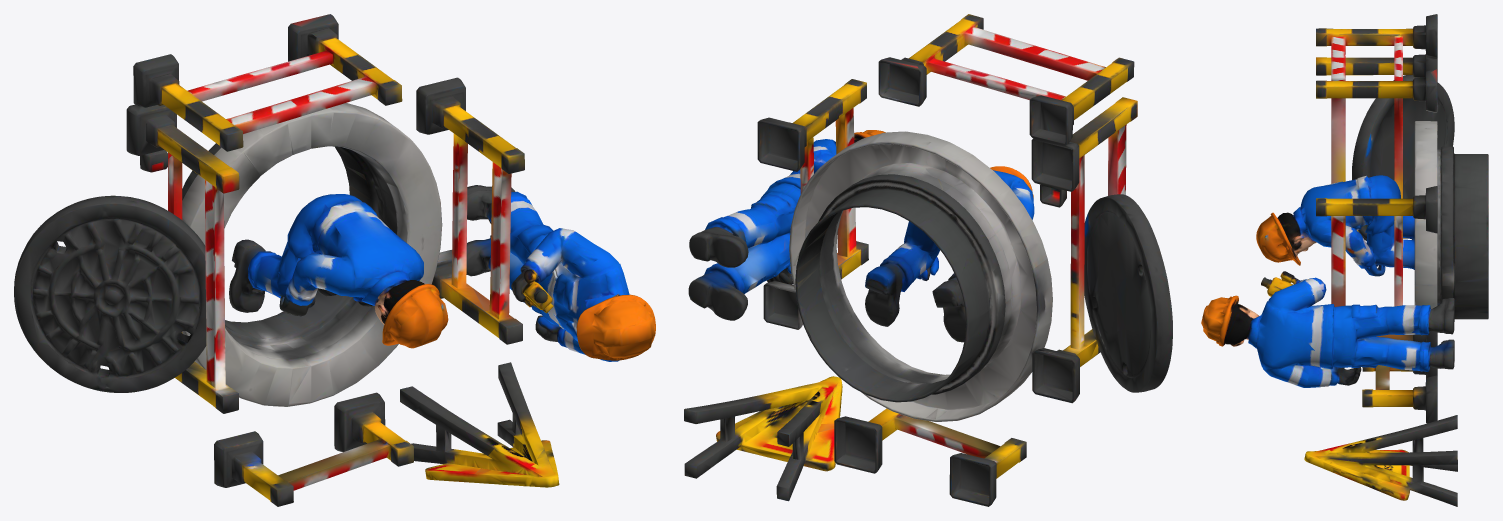
File: dva_montera_kolodec.glb
The picture shows the model from 3 angles, left to right: view 1: azimuth 30°, elevation 25°; view 2: azimuth 150°, elevation 25°; view 3: azimuth 270°, elevation 25°; orthographic projection. The views are drawn at different scales.
Parts seen in each view (by area): view 1: dva_montera_kolodec; view 2: dva_montera_kolodec; view 3: dva_montera_kolodec.
Part boxes in pixels (<box>): dva_montera_kolodec: <box>14,14,655,506</box>; dva_montera_kolodec: <box>684,14,1172,506</box>; dva_montera_kolodec: <box>1201,14,1488,506</box>.
Size of the model in its own units: 3.09 by 2.77 by 2.04.
1 material, 1 textured.
